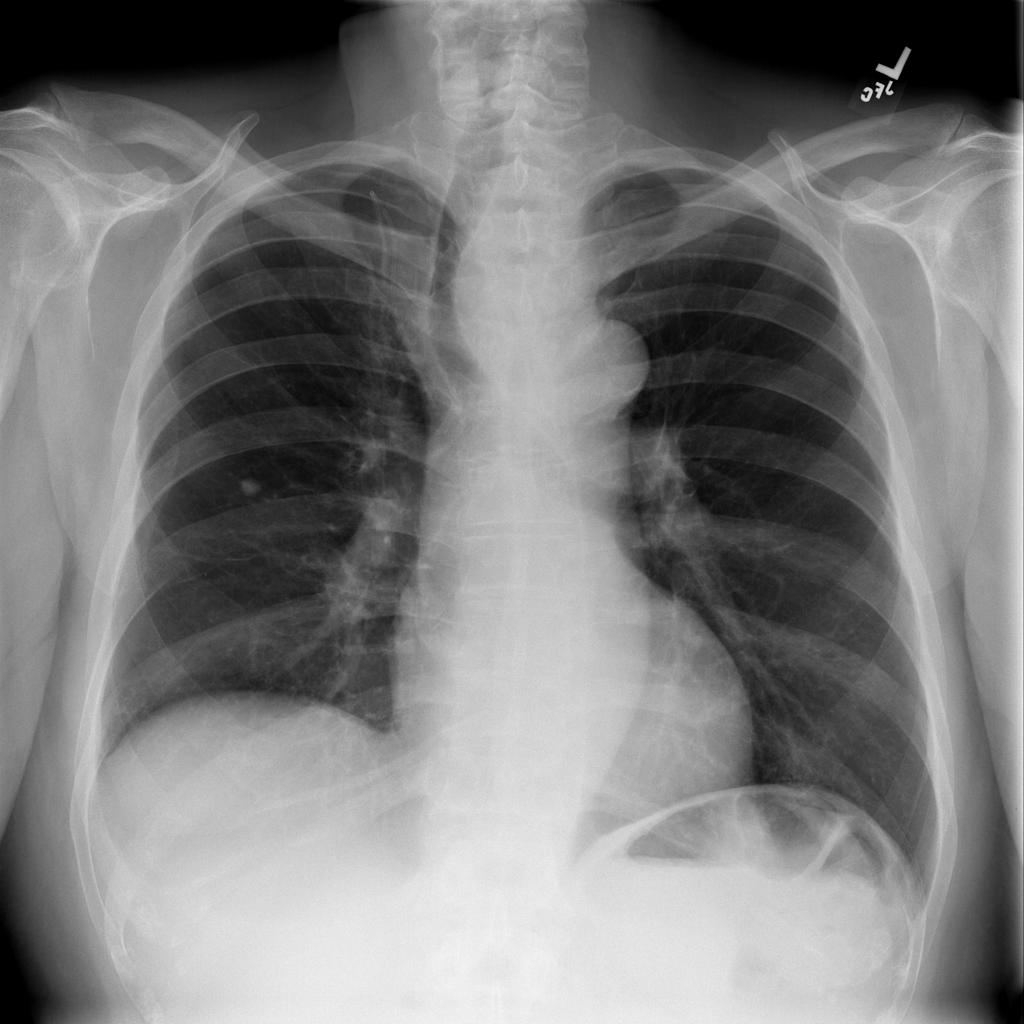nodule: (230, 468, 270, 503)
